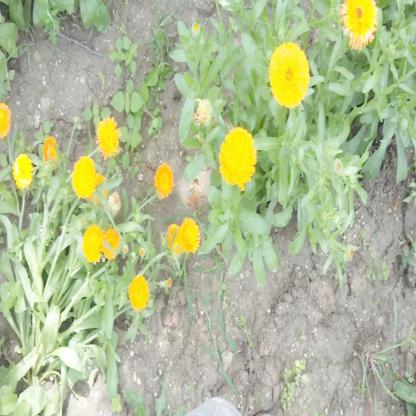marigold: (271, 42, 309, 106), (222, 127, 256, 187), (342, 0, 378, 44), (70, 155, 95, 200), (95, 115, 118, 155), (176, 218, 200, 253), (126, 276, 147, 311), (154, 162, 173, 198), (82, 224, 100, 262), (13, 155, 32, 188), (42, 136, 60, 164), (104, 230, 120, 260), (166, 223, 179, 254)
